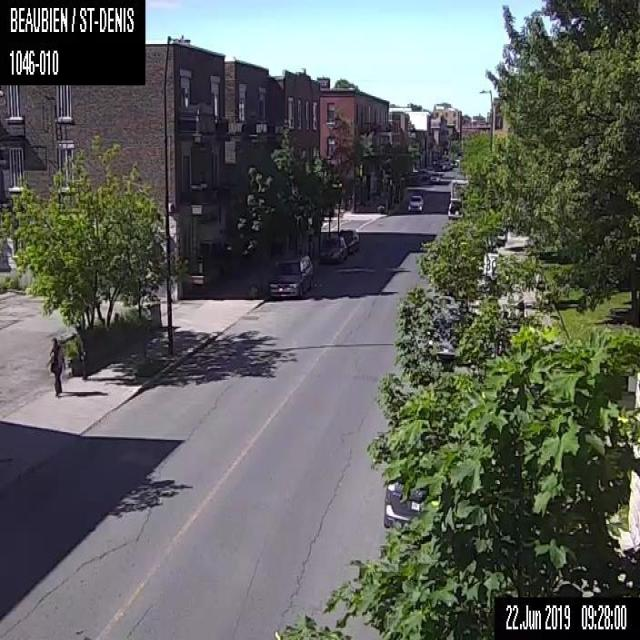pedestrian: (48, 336, 65, 396)
vehicle: (424, 294, 466, 357), (267, 253, 313, 299), (383, 484, 422, 535), (446, 178, 469, 218), (316, 235, 346, 264), (336, 228, 358, 253), (406, 188, 424, 212), (429, 171, 440, 183), (382, 521, 388, 528)
